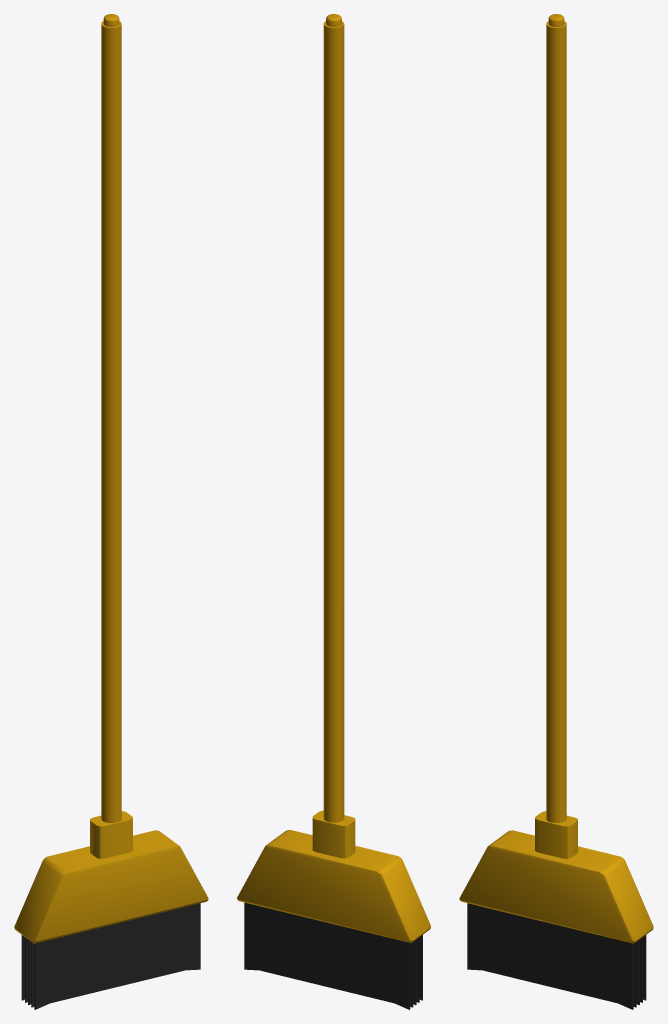
The model's file is SM_Env_Broom.fbx.
3 renders of one model, left to right at view 1: azimuth 30°, elevation 25°; view 2: azimuth 150°, elevation 25°; view 3: azimuth 330°, elevation 25°, orthographic.
Visible parts, largest first — view 1: Broom; view 2: Broom; view 3: Broom.
Boxes of the visible parts, x1,y1,x2,y2 form: Broom: (14,14,208,1009); Broom: (237,14,430,1009); Broom: (459,14,653,1009).
Size of the model in its own units: 0.2556 by 1.34 by 0.055.
